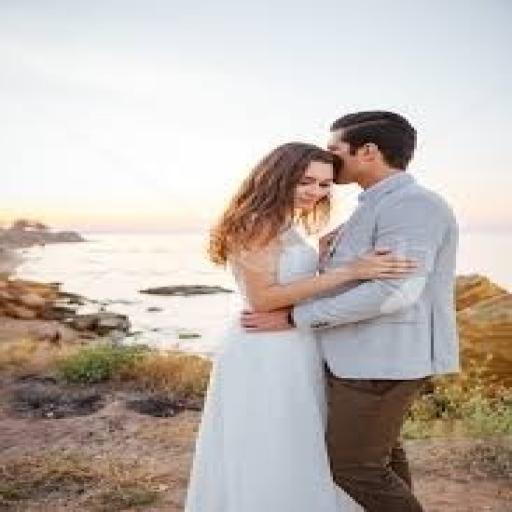hugging: (182, 108, 464, 510)
